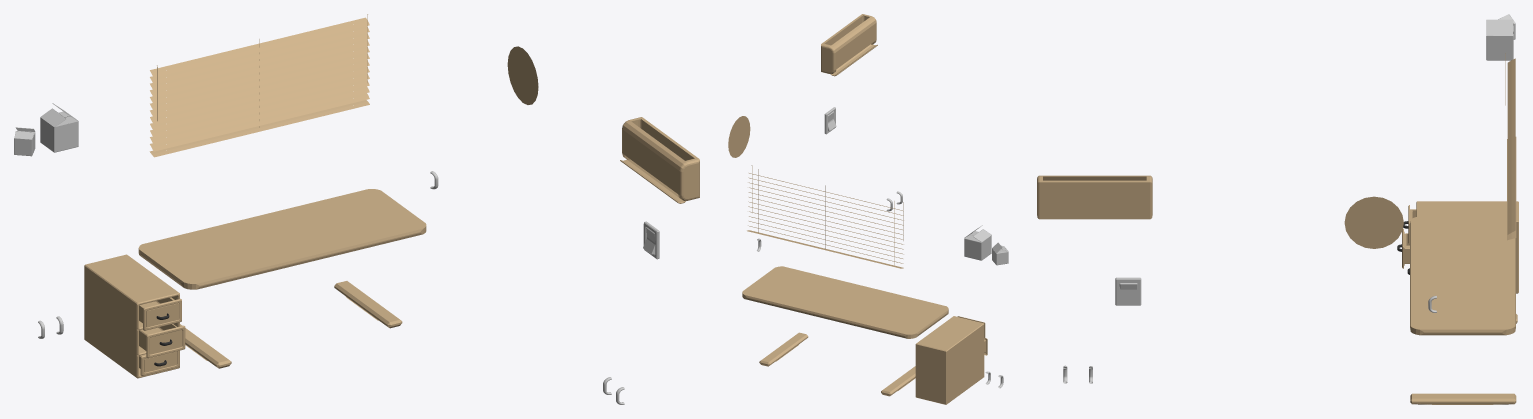
Rendered from room_escape_new_warm_white.obj.
3 renders of one model, left to right at view 1: azimuth 30°, elevation 25°; view 2: azimuth 150°, elevation 25°; view 3: azimuth 270°, elevation 25°, orthographic. The views are drawn at different scales.
Parts seen in each view (by area): view 1: Venetian_slats_warm_white, Grid.011_warm_white, 立方体.006_warm_white, 立方体.008_warm_white, Cube.040_paper_cube, 柱体.001_warm_white, Torus.004_warm_white, Torus.002_warm_white, Cube.001_warm_white, Cube.004_warm_white, Torus.003_warm_white; view 2: Grid.011_warm_white, 立方体.006_warm_white, Venetian_slats_warm_white, 立方体.008_warm_white, Cube.040_paper_cube, 柱体.001_warm_white, Cube.001_warm_white, Cube.004_warm_white, Cube.036_paper_cube, 立方体.009_warm_white; view 3: Grid.011_warm_white, 立方体.008_warm_white, 柱体.001_warm_white, 立方体.006_warm_white, Venetian_slats_warm_white, Cube.001_warm_white, Cube.040_paper_cube, 立方体.003_white.
Part boxes in pixels (left/top/right/bottom): Venetian_slats_warm_white: left=149, top=17, right=369, bottom=157; Grid.011_warm_white: left=138, top=189, right=426, bottom=289; 立方体.006_warm_white: left=84, top=254, right=179, bottom=378; 立方体.008_warm_white: left=622, top=117, right=699, bottom=200; Cube.040_paper_cube: left=40, top=103, right=78, bottom=152; 柱体.001_warm_white: left=507, top=46, right=538, bottom=104; Torus.004_warm_white: left=139, top=330, right=182, bottom=376; Torus.002_warm_white: left=139, top=297, right=181, bottom=330; Cube.001_warm_white: left=334, top=281, right=402, bottom=328; Cube.004_warm_white: left=180, top=324, right=231, bottom=368; Torus.003_warm_white: left=139, top=324, right=185, bottom=358; Grid.011_warm_white: left=742, top=266, right=948, bottom=338; 立方体.006_warm_white: left=915, top=316, right=984, bottom=404; Venetian_slats_warm_white: left=747, top=173, right=903, bottom=268; 立方体.008_warm_white: left=821, top=14, right=876, bottom=73; Cube.040_paper_cube: left=964, top=225, right=991, bottom=260; 柱体.001_warm_white: left=728, top=116, right=750, bottom=157; Cube.001_warm_white: left=759, top=332, right=808, bottom=366; Cube.004_warm_white: left=881, top=366, right=915, bottom=396; Cube.036_paper_cube: left=992, top=242, right=1008, bottom=265; 立方体.009_warm_white: left=830, top=44, right=877, bottom=76; Grid.011_warm_white: left=1410, top=216, right=1515, bottom=335; 立方体.008_warm_white: left=1037, top=175, right=1152, bottom=219; 柱体.001_warm_white: left=1344, top=196, right=1403, bottom=248; 立方体.006_warm_white: left=1416, top=201, right=1518, bottom=293; Venetian_slats_warm_white: left=1507, top=58, right=1516, bottom=240; Cube.001_warm_white: left=1410, top=393, right=1516, bottom=404; Cube.040_paper_cube: left=1486, top=19, right=1513, bottom=60; 立方体.003_white: left=1115, top=277, right=1141, bottom=305.
Size of the model in its own units: 6.79 by 4.12 by 6.61.
